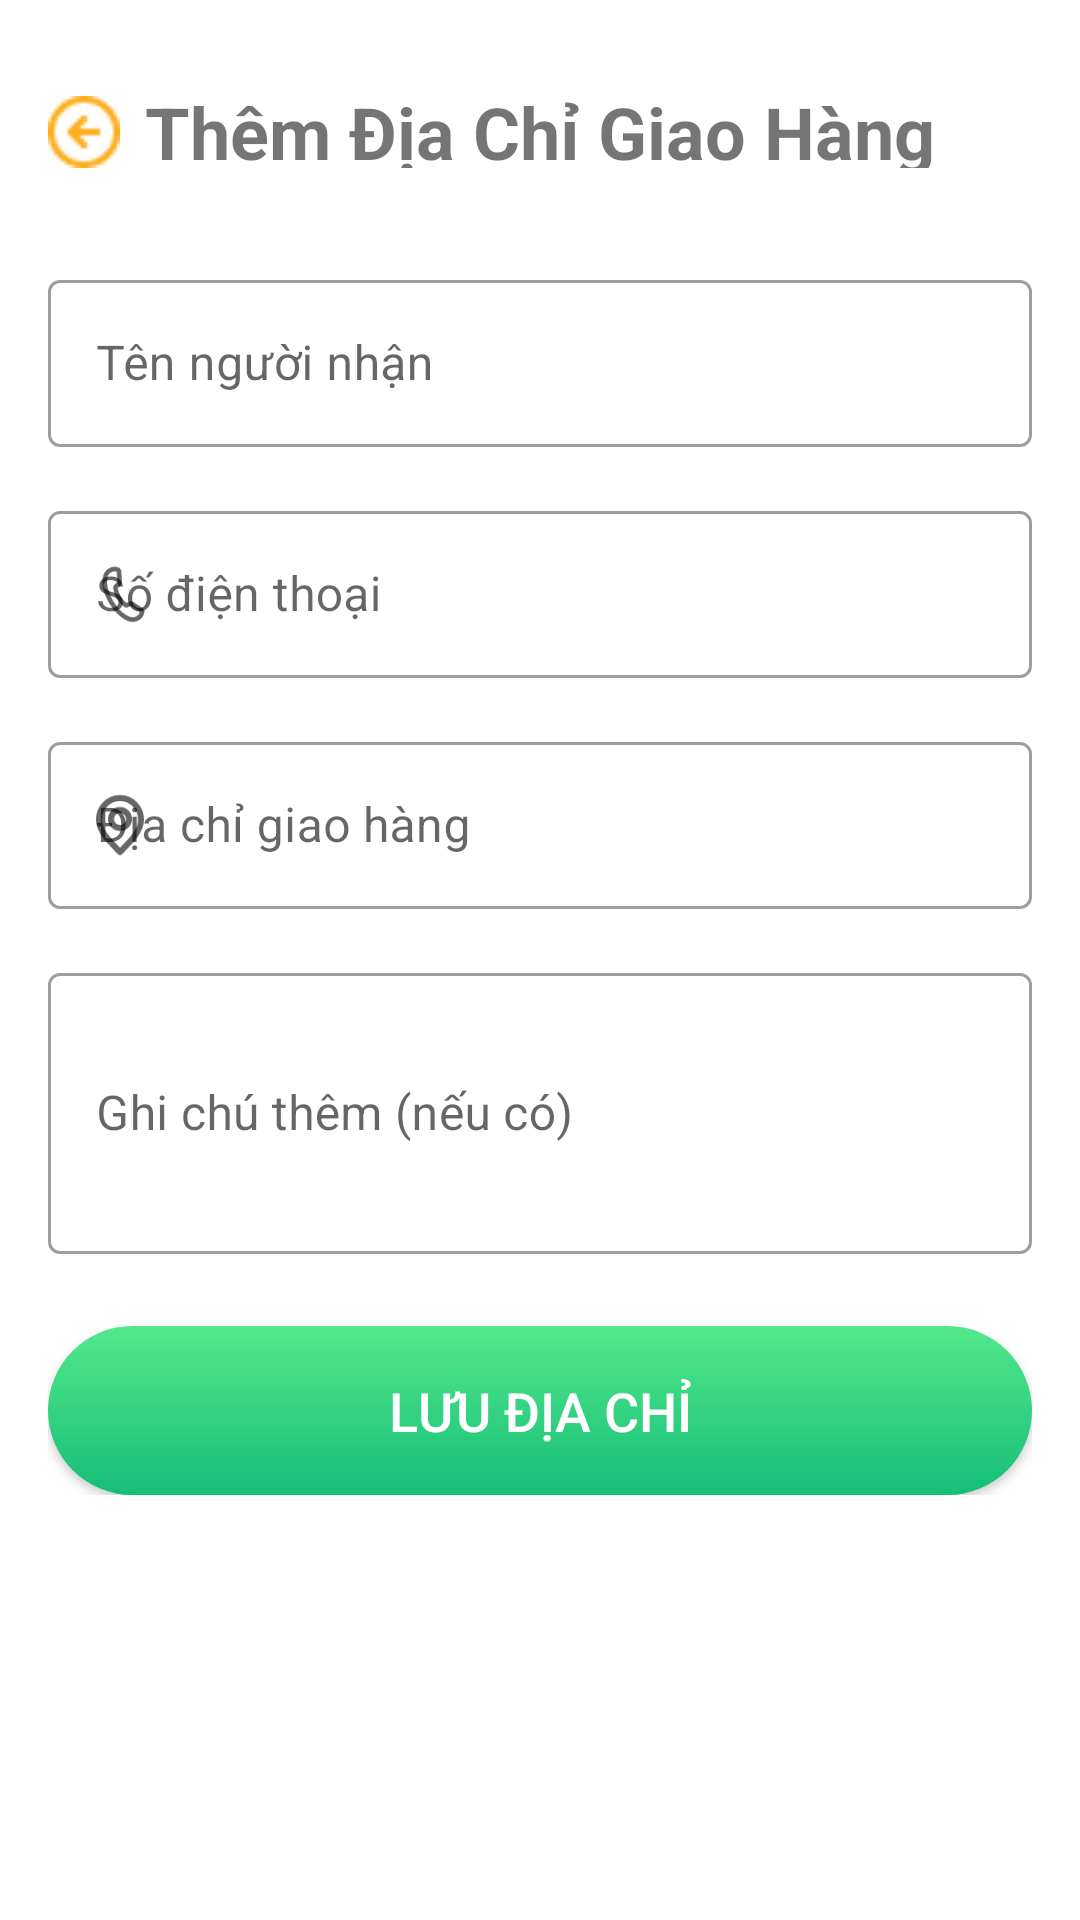

Where icons sit on this 1080 x 1920 app screen, as region(x1, y1, x2, y2):
Back Arrow: region(48, 96, 120, 168)
